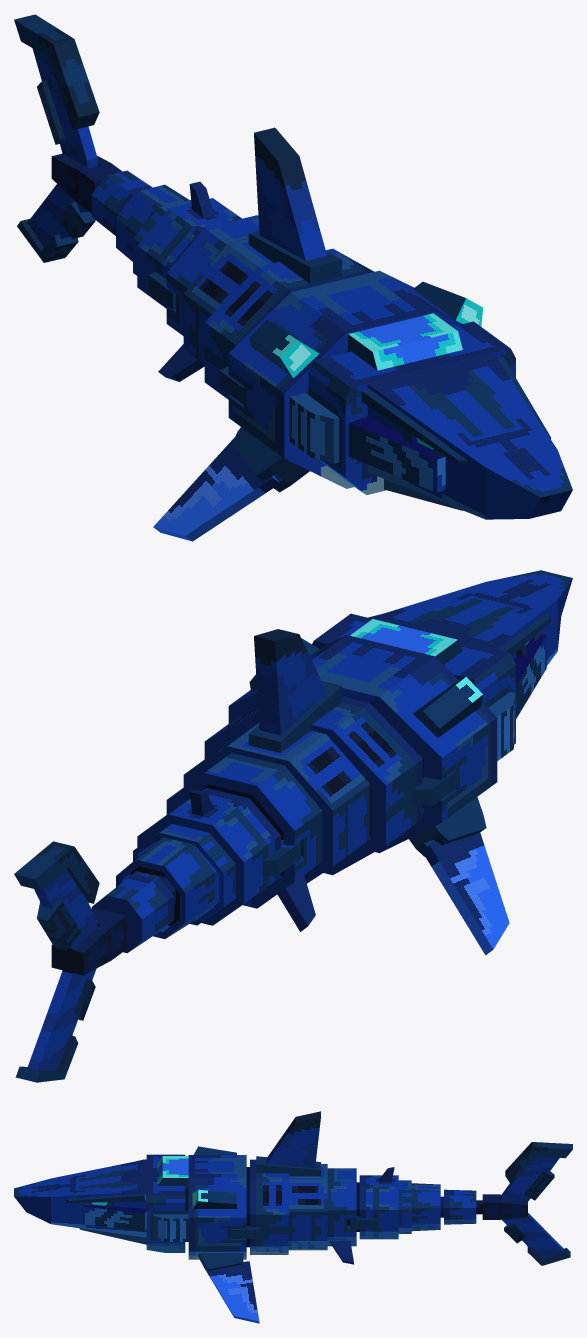
3 views of the same model, one above another, from view 1: azimuth 30°, elevation 25°; view 2: azimuth 150°, elevation 25°; view 3: azimuth 270°, elevation 25° (orthographic). The views are drawn at different scales.
Parts seen in each view (by area): view 1: cuboid_11, tube_29, cuboid_10, cuboid_23, tube_17, cuboid_35, cuboid_15, tube_20, cuboid_6, cuboid_58, tube_44, cuboid_57 (+15 smaller); view 2: tube_29, tube_17, cuboid_11, tube_20, tube_21, tube_44, cuboid_23, cuboid_35, cuboid_57, tube_41, cuboid_10, tube_52 (+15 smaller); view 3: cuboid_11, tube_29, tube_17, tube_20, tube_44, cuboid_57, cuboid_10, tube_21, cuboid_23, cuboid_34, cuboid_1, tube_41 (+16 smaller).
Boxes of the visible parts, left/top/right/bottom form: cuboid_11: left=367, top=353, right=572, bottom=519; tube_29: left=228, top=270, right=462, bottom=488; cuboid_10: left=308, top=321, right=515, bottom=494; cuboid_23: left=254, top=127, right=326, bottom=260; tube_17: left=204, top=248, right=374, bottom=399; cuboid_35: left=153, top=437, right=280, bottom=541; cuboid_15: left=348, top=313, right=462, bottom=370; tube_20: left=183, top=238, right=272, bottom=363; cuboid_6: left=348, top=417, right=445, bottom=492; cuboid_58: left=14, top=14, right=99, bottom=129; tube_44: left=137, top=198, right=241, bottom=308; cuboid_57: left=27, top=48, right=97, bottom=247; tube_29: left=228, top=635, right=497, bottom=852; tube_17: left=204, top=696, right=422, bottom=875; cuboid_11: left=370, top=570, right=572, bottom=665; tube_20: left=183, top=723, right=369, bottom=883; tube_21: left=166, top=753, right=322, bottom=908; tube_44: left=137, top=787, right=280, bottom=925; cuboid_23: left=254, top=629, right=326, bottom=735; cuboid_35: left=422, top=832, right=509, bottom=955; cuboid_57: left=27, top=869, right=97, bottom=1070; tube_41: left=116, top=837, right=218, bottom=938; cuboid_10: left=312, top=613, right=515, bottom=744; tube_52: left=91, top=871, right=174, bottom=953; cuboid_11: left=14, top=1159, right=146, bottom=1237; tube_29: left=188, top=1155, right=246, bottom=1259; tube_17: left=250, top=1159, right=288, bottom=1254; tube_20: left=288, top=1164, right=327, bottom=1250; tube_44: left=359, top=1175, right=398, bottom=1239; cuboid_57: left=502, top=1156, right=564, bottom=1259; cuboid_10: left=146, top=1154, right=185, bottom=1252; tube_21: left=327, top=1168, right=356, bottom=1246; cuboid_23: left=266, top=1111, right=320, bottom=1168; cuboid_34: left=204, top=1261, right=259, bottom=1323; cuboid_1: left=82, top=1205, right=146, bottom=1231; tube_41: left=411, top=1183, right=440, bottom=1231.
Size of the model in its own units: 2 by 1.79 by 5.4.
Materials: 1 (1 with a texture image).
